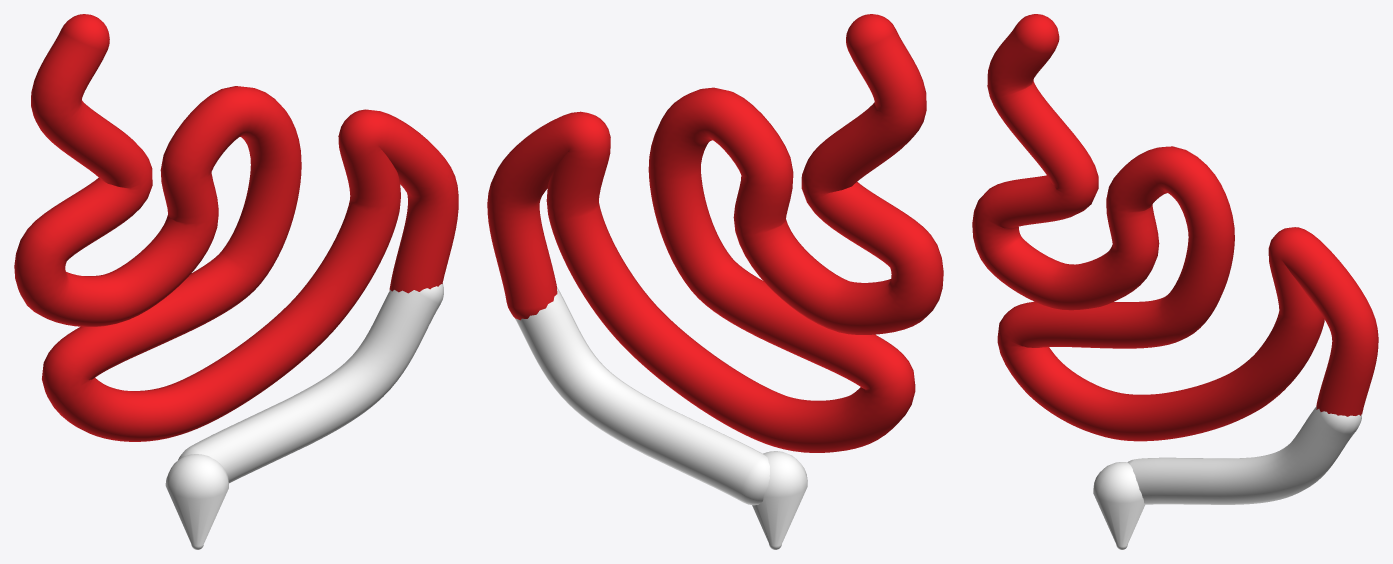
File: Guts_intestines.fbx
3 renders of one model, left to right at view 1: azimuth 30°, elevation 25°; view 2: azimuth 150°, elevation 25°; view 3: azimuth 330°, elevation 25°, orthographic. The views are drawn at different scales.
Visible parts, largest first — view 1: node_id35, node_id33, node_id31; view 2: node_id35, node_id33, node_id31; view 3: node_id35, node_id33, node_id31.
Boxes of the visible parts, x1=… form: node_id35: x1=14, y1=14, x2=458, y2=441; node_id33: x1=178, y1=283, x2=443, y2=483; node_id31: x1=165, y1=454, x2=228, y2=549; node_id35: x1=487, y1=14, x2=943, y2=452; node_id33: x1=515, y1=287, x2=769, y2=505; node_id31: x1=752, y1=451, x2=807, y2=549; node_id35: x1=972, y1=14, x2=1378, y2=441; node_id33: x1=1127, y1=406, x2=1361, y2=504; node_id31: x1=1093, y1=462, x2=1145, y2=549.
Bounding box in the file's own units: 0.4255 × 0.512 × 0.064.
Materials: 3 (1 with a texture image).
